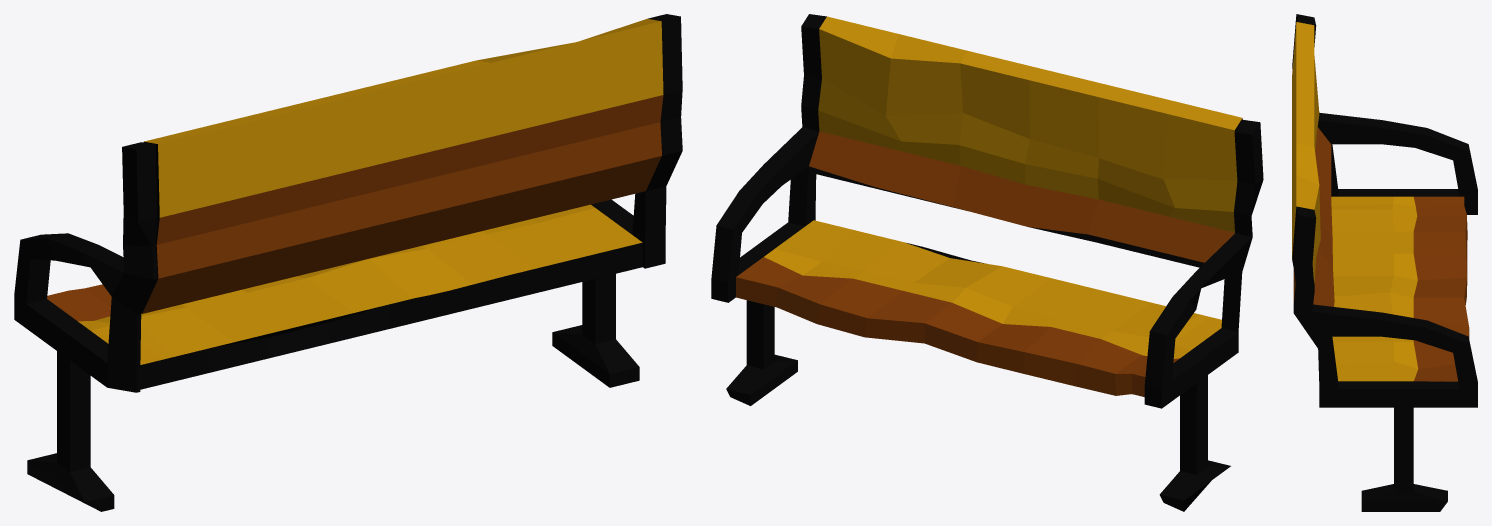
Rendered from bench.fbx.
3 views of the same model, side by side, from view 1: azimuth 30°, elevation 25°; view 2: azimuth 150°, elevation 25°; view 3: azimuth 270°, elevation 25° (orthographic). The views are drawn at different scales.
Visible parts, largest first — view 1: Cube; view 2: Cube; view 3: Cube.
Boxes of the visible parts, left/top/right/bottom form: Cube: left=14, top=14, right=682, bottom=511; Cube: left=711, top=14, right=1263, bottom=511; Cube: left=1292, top=14, right=1477, bottom=511.
Size of the model in its own units: 813 by 555 by 314.
